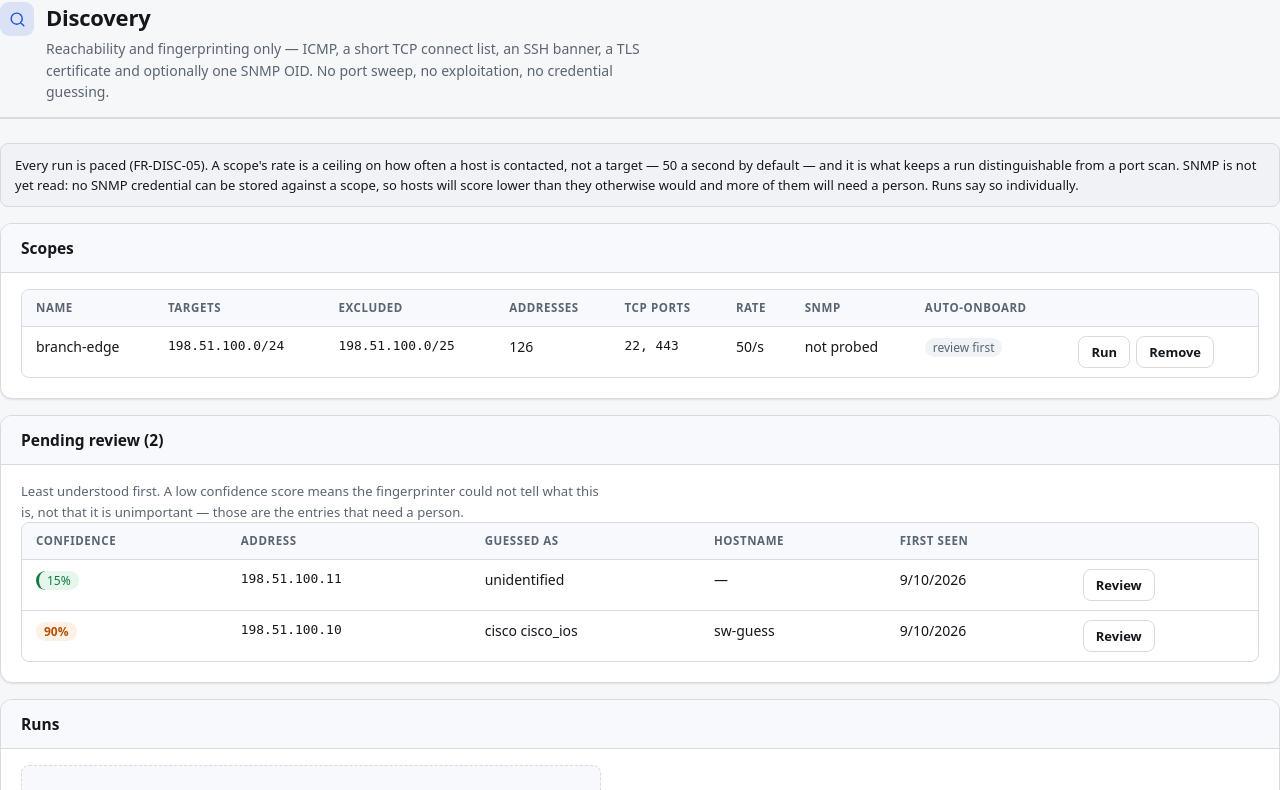
Test: DiscoveryPage › starting a run › asks before sending anything, naming the count and the rate
Expected: the text "branch-edge" is shown, top-left (22, 327), bottom-right (154, 377)
Click the button "Run". click: (1104, 352)
box: top-left (1078, 336), bottom-right (1130, 368)
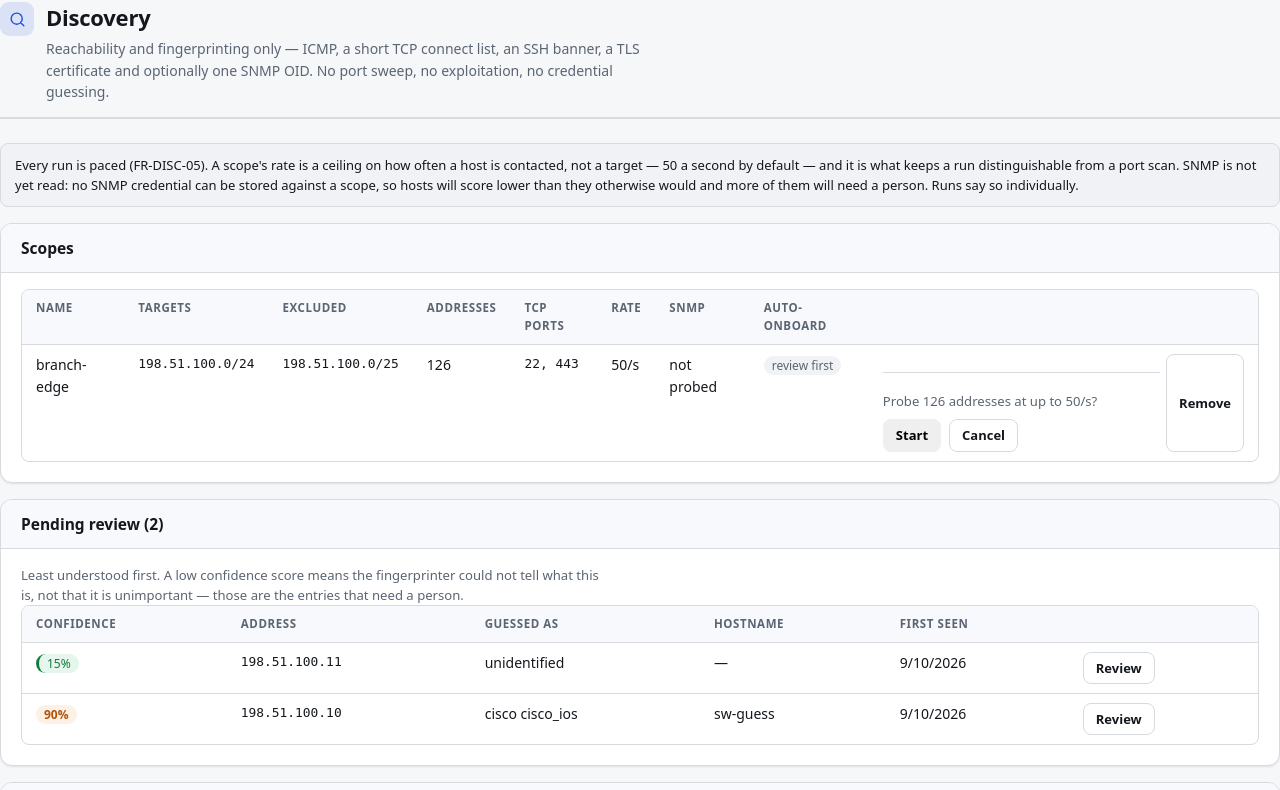
Expected: the text "Probe 126 addresses at up to 50/s?" is shown, top-left (883, 392), bottom-right (1097, 410)
